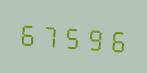five: (62, 19, 83, 53)
nine: (84, 20, 105, 55)
seven: (40, 17, 61, 52)
six: (18, 16, 39, 50), (106, 22, 127, 56)
